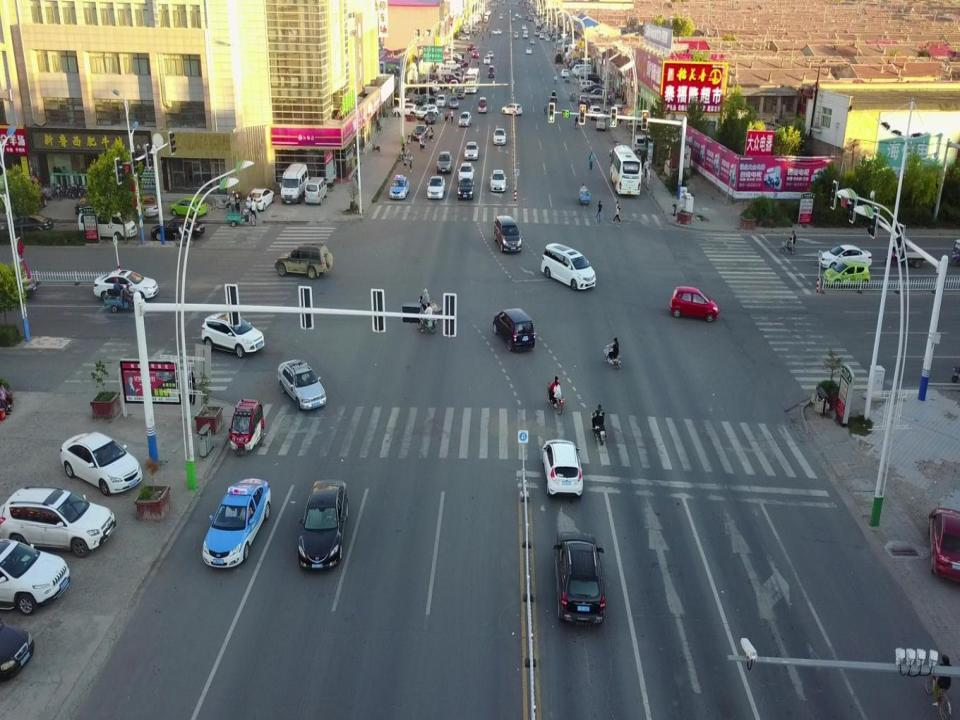bus: (464, 67, 479, 93)
car: (0, 486, 116, 555), (202, 479, 270, 568), (60, 431, 143, 497), (0, 538, 71, 614), (552, 531, 606, 624), (298, 478, 348, 569), (200, 310, 264, 358), (540, 243, 596, 290), (277, 358, 327, 410), (927, 505, 960, 582), (542, 440, 583, 495), (94, 269, 159, 302), (274, 242, 332, 278), (491, 307, 535, 350), (670, 286, 718, 321), (152, 215, 205, 243), (818, 243, 872, 269), (0, 214, 54, 239), (823, 260, 870, 288), (494, 215, 522, 251), (169, 195, 207, 219), (246, 186, 276, 211), (136, 192, 159, 216), (389, 173, 409, 199), (427, 176, 445, 199), (457, 177, 475, 199), (490, 169, 507, 192), (414, 105, 438, 120), (436, 151, 452, 173), (458, 161, 474, 183), (392, 102, 417, 116), (464, 141, 479, 160), (501, 103, 522, 115), (415, 94, 435, 106), (413, 124, 428, 139), (459, 111, 471, 127), (494, 128, 506, 144), (588, 106, 601, 120), (425, 111, 437, 123), (478, 97, 487, 113), (449, 94, 459, 108), (436, 94, 446, 106), (456, 87, 464, 98), (560, 69, 568, 77), (484, 56, 491, 64), (487, 50, 493, 58), (526, 47, 531, 55)
van: (77, 211, 138, 240), (280, 163, 308, 203), (304, 177, 328, 204), (633, 134, 662, 155), (596, 115, 605, 132), (488, 66, 494, 78)
